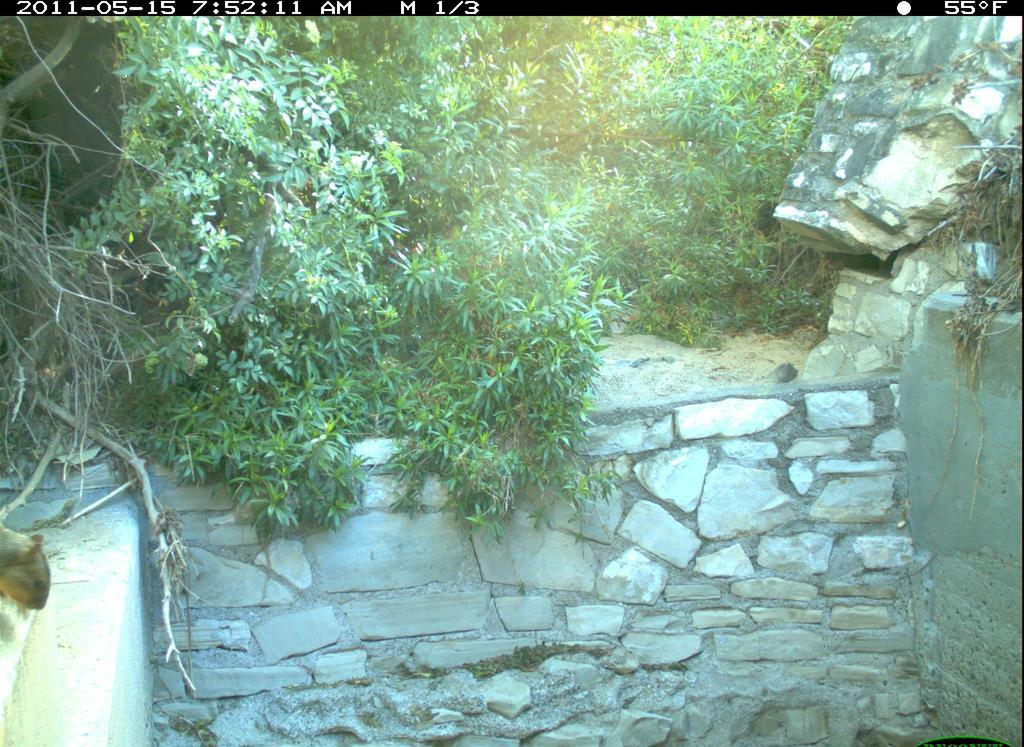squirrel: (1, 518, 65, 633)
